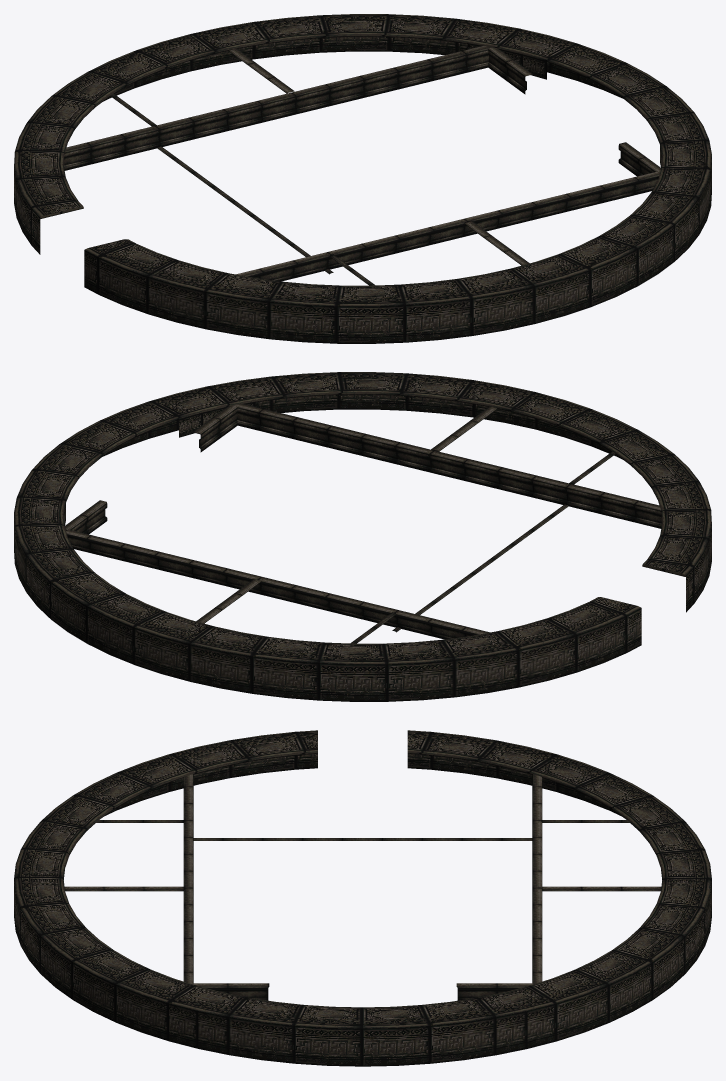
Rendered from EnvMdrMD_Atl_A_Floor.FBX.
The picture shows the model from 3 angles, top to bottom: view 1: azimuth 30°, elevation 25°; view 2: azimuth 150°, elevation 25°; view 3: azimuth 270°, elevation 25°; orthographic projection.
Visible parts, largest first — view 1: EnvMdrMD_Atl_A_Floor; view 2: EnvMdrMD_Atl_A_Floor; view 3: EnvMdrMD_Atl_A_Floor.
Part boxes in pixels (box(x1,y1,x2,y2)): EnvMdrMD_Atl_A_Floor: box(14, 14, 711, 343); EnvMdrMD_Atl_A_Floor: box(14, 372, 711, 701); EnvMdrMD_Atl_A_Floor: box(14, 730, 711, 1066).
Size of the model in its own units: 3542 by 215 by 3501.
